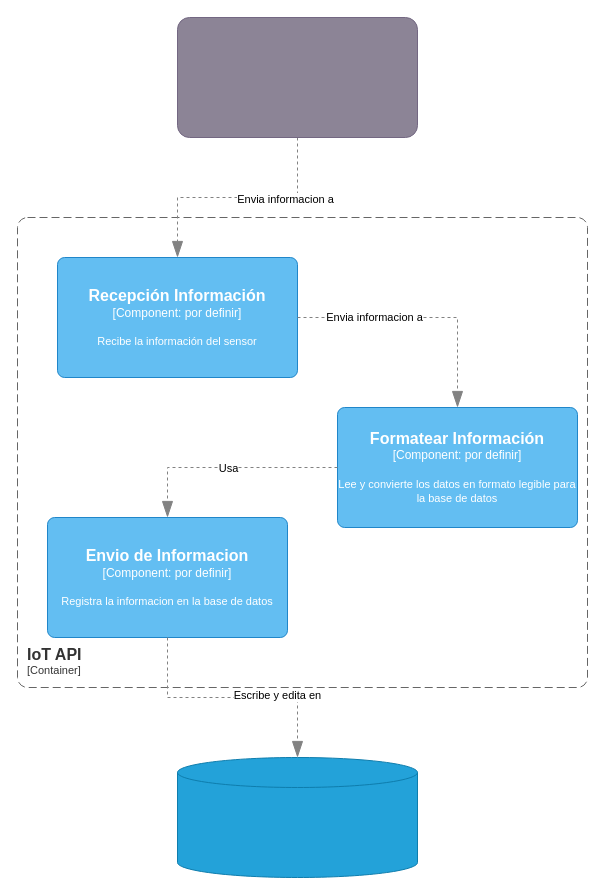
The diagram is 605 pixels wide and 895 high, and some of its shapes have lost their labels. Each missing label, with the centre of its shape:
Database [Container: PostgreSQL] Base de datos del sistema: the point at 297,817
Sensor [Software System] Sistema IoT del sensor ultrasonido: the point at 297,77
